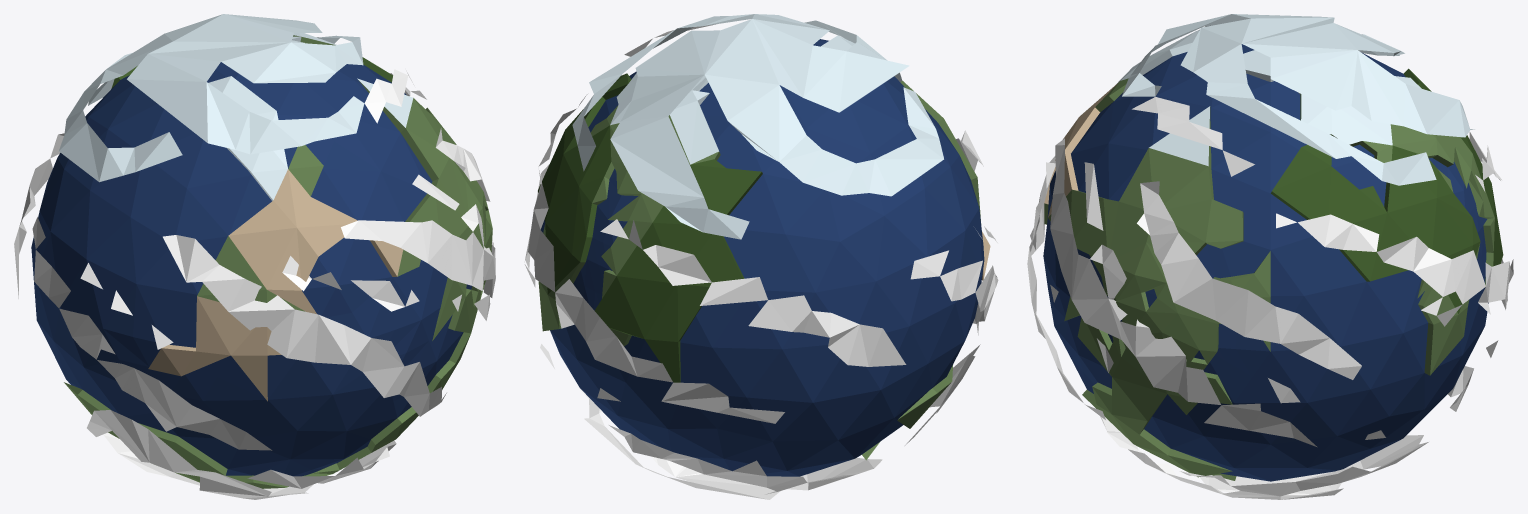
File: planet18.glb
3 views of the same model, side by side, from view 1: azimuth 30°, elevation 25°; view 2: azimuth 150°, elevation 25°; view 3: azimuth 270°, elevation 25° (orthographic).
Visible parts, largest first — view 1: planet18; view 2: planet18; view 3: planet18.
Boxes of the visible parts, <box> form: planet18: <box>14,14,495,499</box>; planet18: <box>524,14,998,499</box>; planet18: <box>1027,14,1513,499</box>.
Bounding box in the file's own units: 2.79 × 2.8 × 2.8.
1 material, 1 textured.
